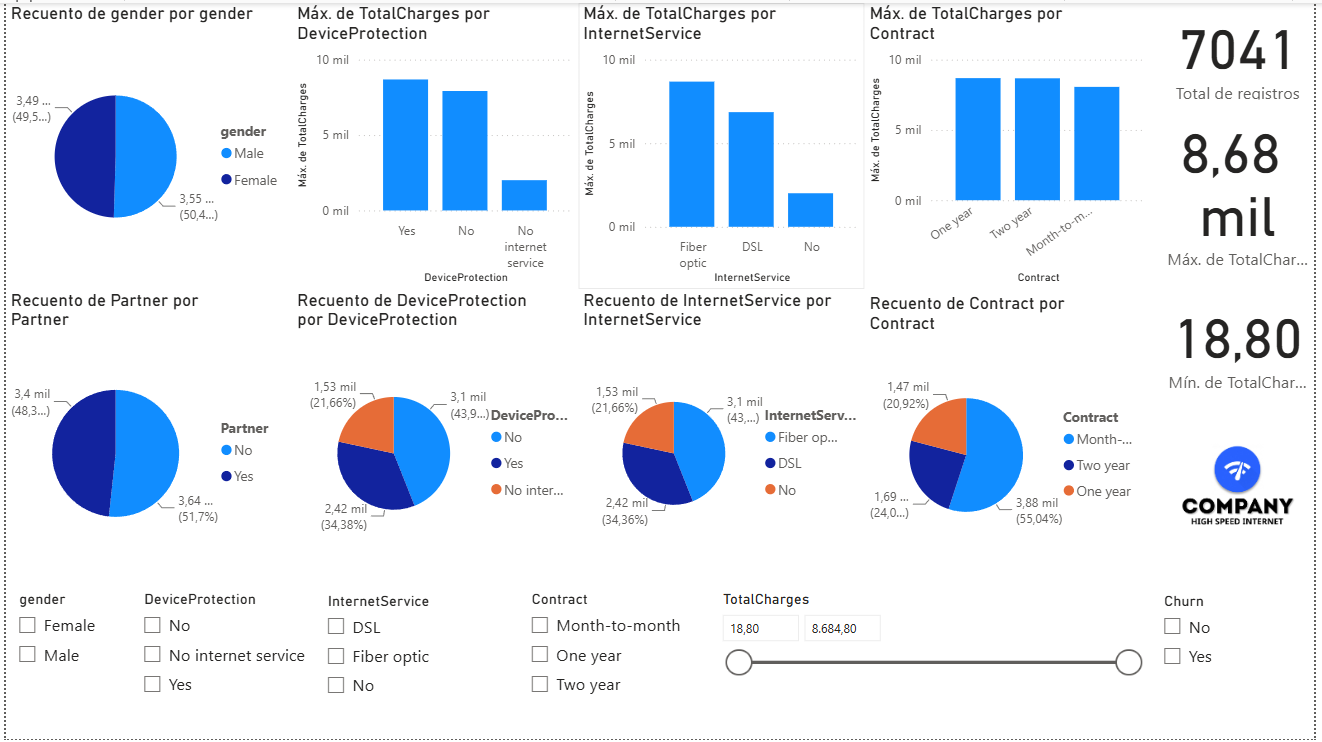

What the dashboard file says about the page in this screenshot:
{"tool":"powerbi","page":{"name":"Página 1","canvas":[1280,720],"ordinal":0},"visuals":[{"type":"columnChart","fields":{"Category":["TelcoClientesFuga.DeviceProtection"],"Y":["Max(TelcoClientesFuga.TotalCharges)"]},"box":[279.9,0,279.9,279.9],"z":0},{"type":"pieChart","fields":{"Category":["TelcoClientesFuga.gender"],"Y":["CountNonNull(TelcoClientesFuga.gender)"]},"box":[0,0,279.9,279.9],"z":1000},{"type":"pieChart","fields":{"Category":["TelcoClientesFuga.DeviceProtection"],"Y":["CountNonNull(TelcoClientesFuga.DeviceProtection)"]},"box":[279.9,279.9,279.9,279.9],"z":2000},{"type":"clusteredColumnChart","fields":{"Category":["TelcoClientesFuga.InternetService"],"Y":["Max(TelcoClientesFuga.TotalCharges)"]},"box":[559.9,0,279.9,279.9],"z":3000},{"type":"pieChart","fields":{"Category":["TelcoClientesFuga.InternetService"],"Y":["CountNonNull(TelcoClientesFuga.InternetService)"]},"box":[559.9,279.9,279.9,279.9],"z":4000},{"type":"pieChart","fields":{"Category":["TelcoClientesFuga.Partner"],"Y":["CountNonNull(TelcoClientesFuga.Partner)"]},"box":[0,279.9,279.9,279.9],"z":5000},{"type":"clusteredColumnChart","fields":{"Category":["TelcoClientesFuga.Contract"],"Y":["Max(TelcoClientesFuga.TotalCharges)"]},"box":[839.8,0,279.9,279.9],"z":6000},{"type":"pieChart","fields":{"Category":["TelcoClientesFuga.Contract"],"Y":["CountNonNull(TelcoClientesFuga.Contract)"]},"box":[839.8,284,279.9,275.8],"z":7000},{"type":"slicer","fields":{"Values":["TelcoClientesFuga.gender"]},"box":[0,569.5,122.1,97.4],"z":8000},{"type":"slicer","fields":{"Values":["TelcoClientesFuga.DeviceProtection"]},"box":[122.1,569.5,179.8,149.6],"z":9000},{"type":"slicer","fields":{"Values":["TelcoClientesFuga.InternetService"]},"box":[301.9,570.8,166,149.6],"z":10000},{"type":"slicer","fields":{"Values":["TelcoClientesFuga.Contract"]},"box":[500.9,569.5,188,150.9],"z":11000},{"type":"slicer","fields":{"Values":["TelcoClientesFuga.TotalCharges"]},"box":[688.9,569.5,430.9,150.9],"z":12000},{"type":"card","fields":{"Values":["TelcoClientesFuga.Total de registros"]},"box":[1129.5,0,150.5,99.5],"z":13000},{"type":"card","fields":{"Values":["Max(TelcoClientesFuga.TotalCharges)"]},"box":[1129.5,99.5,150.5,165.4],"z":14000},{"type":"card","fields":{"Values":["Min(TelcoClientesFuga.TotalCharges)"]},"box":[1129.5,261.2,150.5,140.6],"z":15000},{"type":"slicer","fields":{"Values":["TelcoClientesFuga.Churn"]},"box":[1119.7,570.8,160.5,149.6],"z":16000},{"type":"image","box":[1130,402,150,158],"z":17000}]}

Visuals, with their boxes in screenshot pixels (x1, y1, x2, y2), scaled from the page's 1280x720 canvas onto the 1322x742 screenshot:
columnChart - TelcoClientesFuga.DeviceProtection x Max(TelcoClientesFuga.TotalCharges): bbox=[289, 0, 578, 288]
pieChart - TelcoClientesFuga.gender x CountNonNull(TelcoClientesFuga.gender): bbox=[0, 0, 289, 288]
pieChart - TelcoClientesFuga.DeviceProtection x CountNonNull(TelcoClientesFuga.DeviceProtection): bbox=[289, 288, 578, 577]
clusteredColumnChart - TelcoClientesFuga.InternetService x Max(TelcoClientesFuga.TotalCharges): bbox=[578, 0, 867, 288]
pieChart - TelcoClientesFuga.InternetService x CountNonNull(TelcoClientesFuga.InternetService): bbox=[578, 288, 867, 577]
pieChart - TelcoClientesFuga.Partner x CountNonNull(TelcoClientesFuga.Partner): bbox=[0, 288, 289, 577]
clusteredColumnChart - TelcoClientesFuga.Contract x Max(TelcoClientesFuga.TotalCharges): bbox=[867, 0, 1156, 288]
pieChart - TelcoClientesFuga.Contract x CountNonNull(TelcoClientesFuga.Contract): bbox=[867, 293, 1156, 577]
slicer - TelcoClientesFuga.gender: bbox=[0, 587, 126, 687]
slicer - TelcoClientesFuga.DeviceProtection: bbox=[126, 587, 312, 741]
slicer - TelcoClientesFuga.InternetService: bbox=[312, 588, 483, 741]
slicer - TelcoClientesFuga.Contract: bbox=[517, 587, 712, 741]
slicer - TelcoClientesFuga.TotalCharges: bbox=[712, 587, 1157, 741]
card - TelcoClientesFuga.Total de registros: bbox=[1167, 0, 1321, 103]
card - Max(TelcoClientesFuga.TotalCharges): bbox=[1167, 103, 1321, 273]
card - Min(TelcoClientesFuga.TotalCharges): bbox=[1167, 269, 1321, 414]
slicer - TelcoClientesFuga.Churn: bbox=[1156, 588, 1321, 741]
image: bbox=[1167, 414, 1321, 577]
